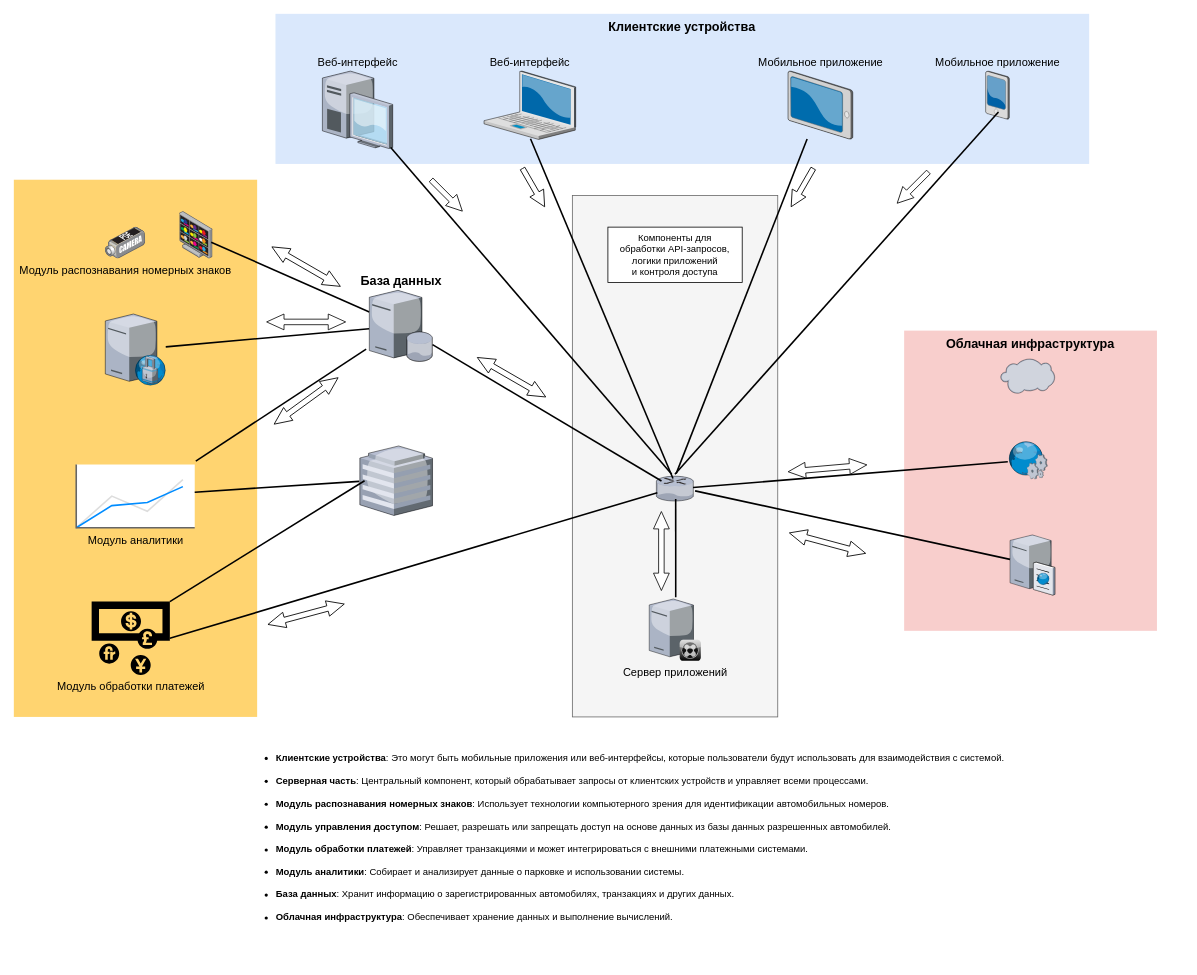
The diagram is 1197 pixels wide and 975 high, and some of its shapes have lost their labels. Each missing label, with the box of its shape:
CRM: (359, 446, 432, 515)
Web Server: (1010, 533, 1054, 595)
Web service: (1007, 441, 1047, 479)
Модули: (13, 179, 257, 717)
Модуль управления доступом: (105, 314, 165, 385)
Серверная часть: (572, 195, 778, 717)
